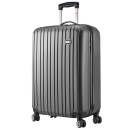luggage: (30, 2, 103, 129)
